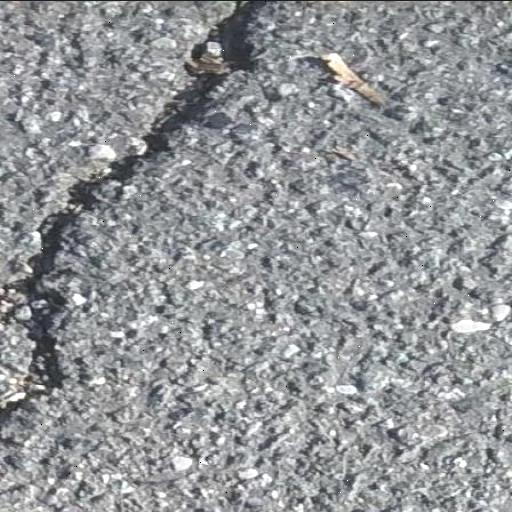spalling: (0, 4, 264, 431)
